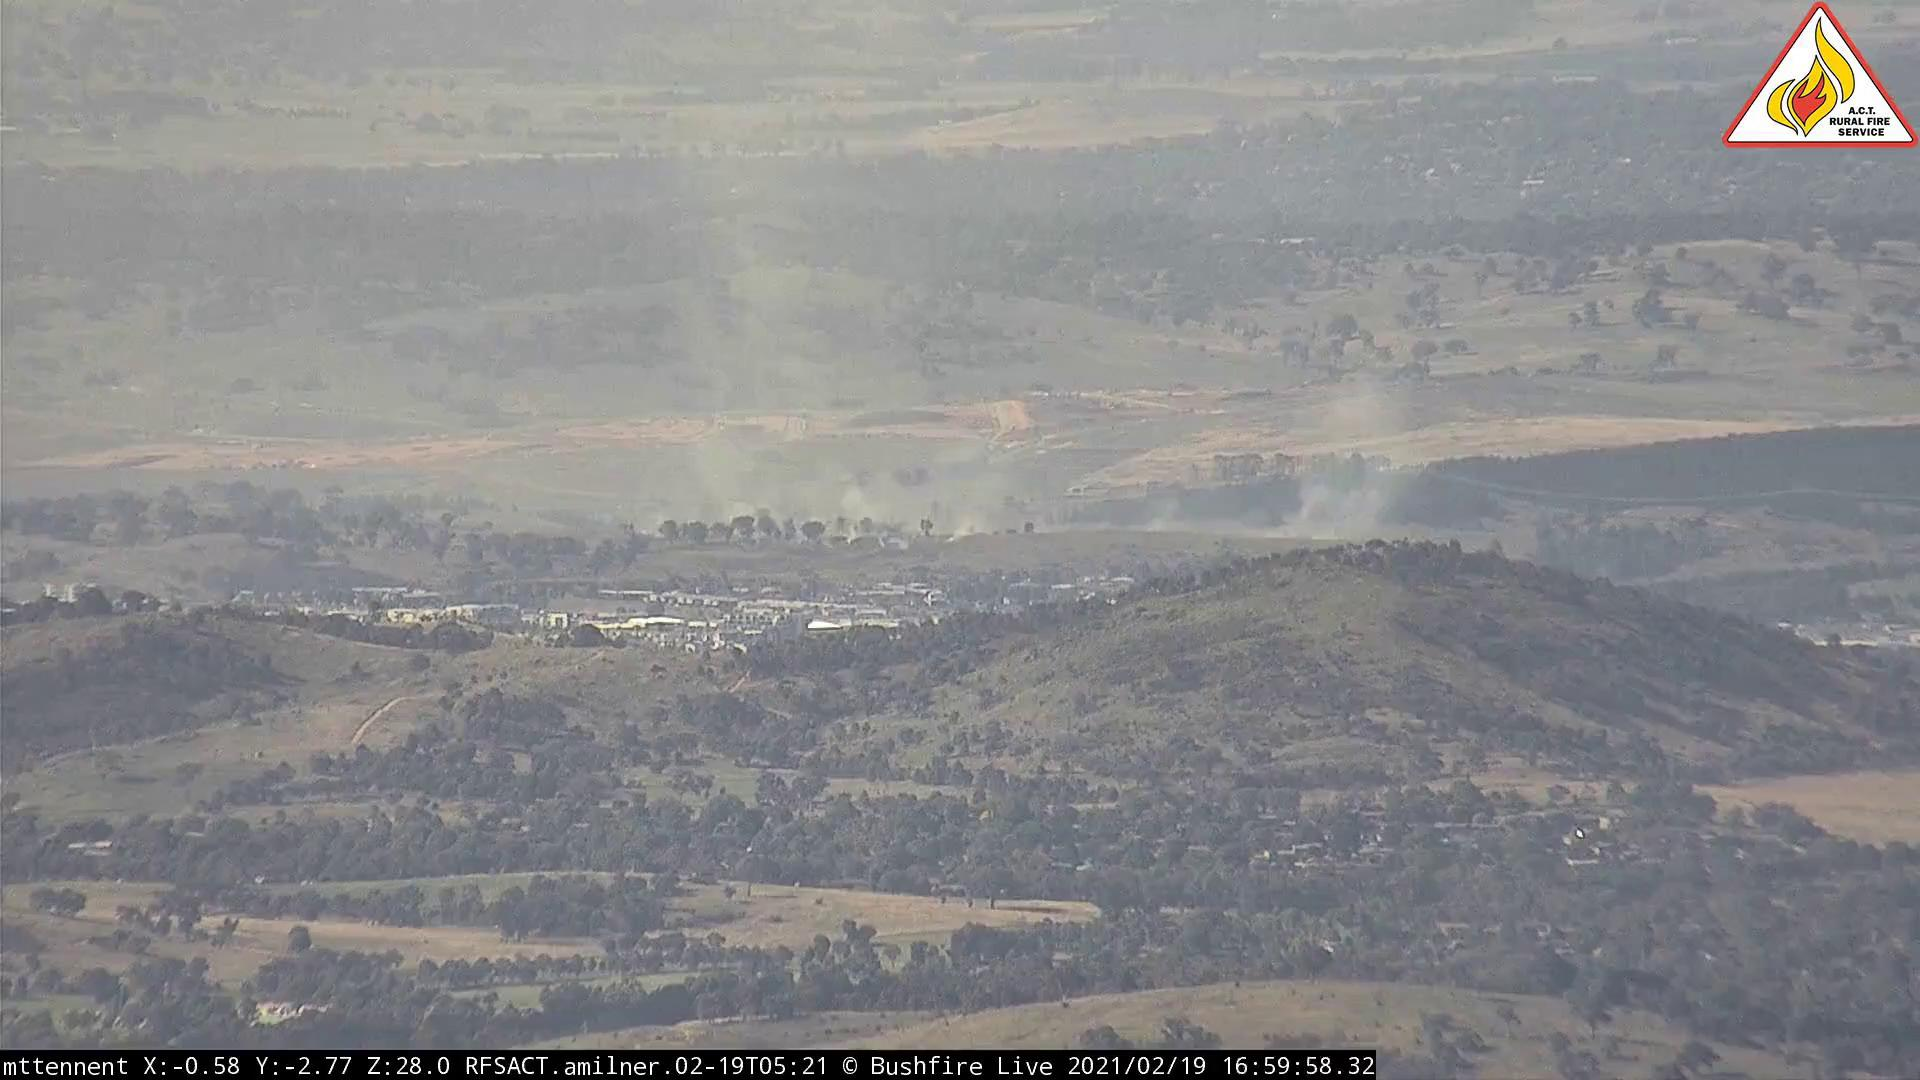Smoke: (665, 305, 1042, 542), (1138, 345, 1451, 541)
